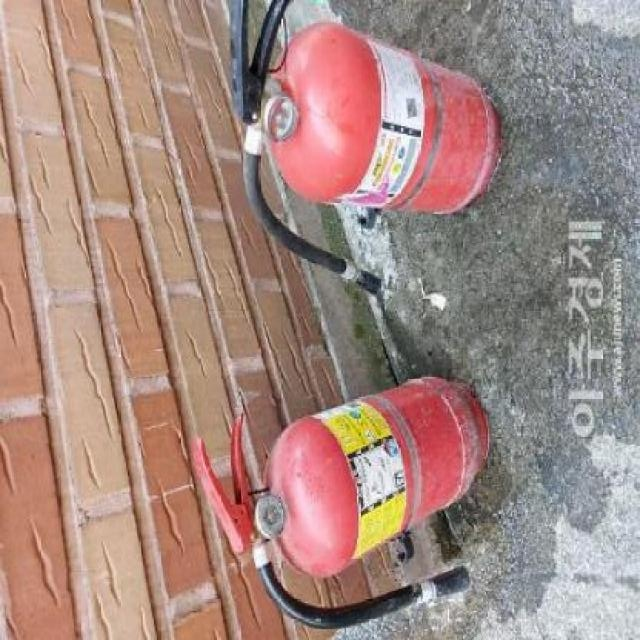fire extinguisher: (230, 0, 497, 299), (194, 376, 491, 630)
